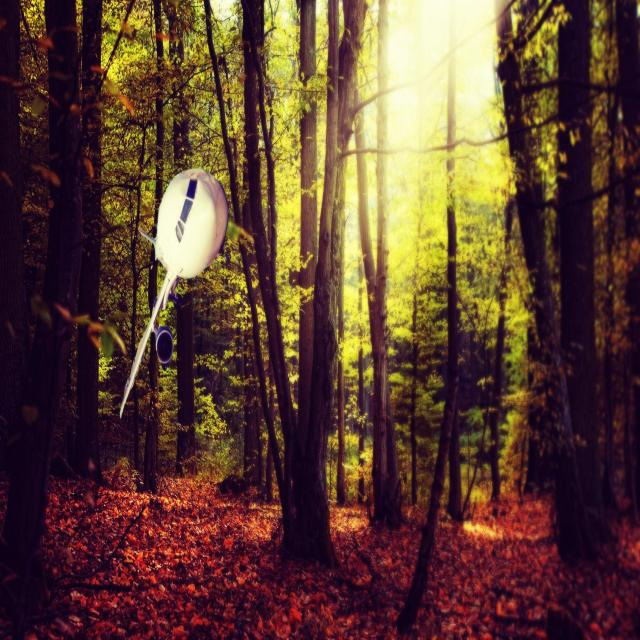airplane: (119, 169, 230, 419)
